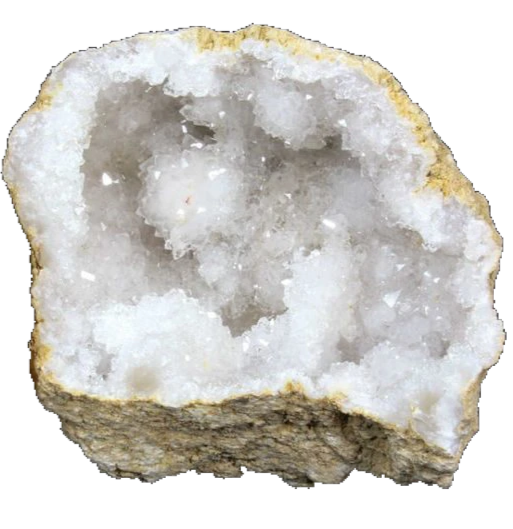Clear_Quartz: (1, 22, 506, 487)
